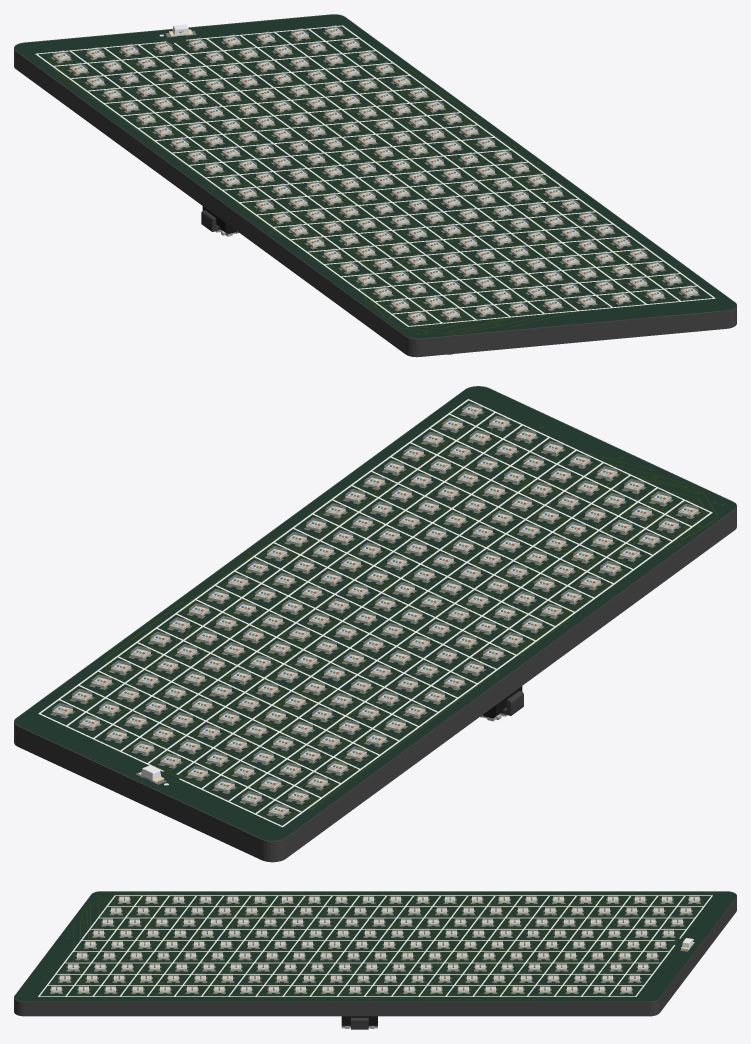
Rendered from board.glb.
The picture shows the model from 3 angles, top to bottom: view 1: azimuth 30°, elevation 25°; view 2: azimuth 150°, elevation 25°; view 3: azimuth 270°, elevation 25°; orthographic projection. The views are drawn at different scales.
Parts seen in each view (by area): view 1: parallelogram_soldermask, parallelogram_PCB, parallelogram_silkscreen, parallelogram_pad, parallelogram_copper; view 2: parallelogram_soldermask, parallelogram_PCB, parallelogram_silkscreen, parallelogram_pad, parallelogram_copper; view 3: parallelogram_soldermask, parallelogram_PCB, parallelogram_silkscreen, parallelogram_pad, parallelogram_copper, SW-SMD_EVQP7C01P-L3.6-W3.5-H1.4-P3.6-LS4.7.
Boxes of the visible parts, x1,y1,x2,y2 form: parallelogram_soldermask: (14,14,736,338); parallelogram_PCB: (14,15,736,357); parallelogram_silkscreen: (35,25,715,326); parallelogram_pad: (51,30,699,323); parallelogram_copper: (48,35,693,334); parallelogram_soldermask: (14,386,736,840); parallelogram_PCB: (14,387,736,862); parallelogram_silkscreen: (38,399,712,827); parallelogram_pad: (50,411,700,818); parallelogram_copper: (63,412,724,820); parallelogram_soldermask: (14,891,736,1001); parallelogram_PCB: (14,892,736,1016); parallelogram_silkscreen: (38,895,712,996); parallelogram_pad: (50,898,700,993); parallelogram_copper: (54,893,702,998); SW-SMD_EVQP7C01P-L3.6-W3.5-H1.4-P3.6-LS4.7: (341,1016,377,1029).
Size of the model in its own units: 0.0259 by 0.00363 by 0.0693.
